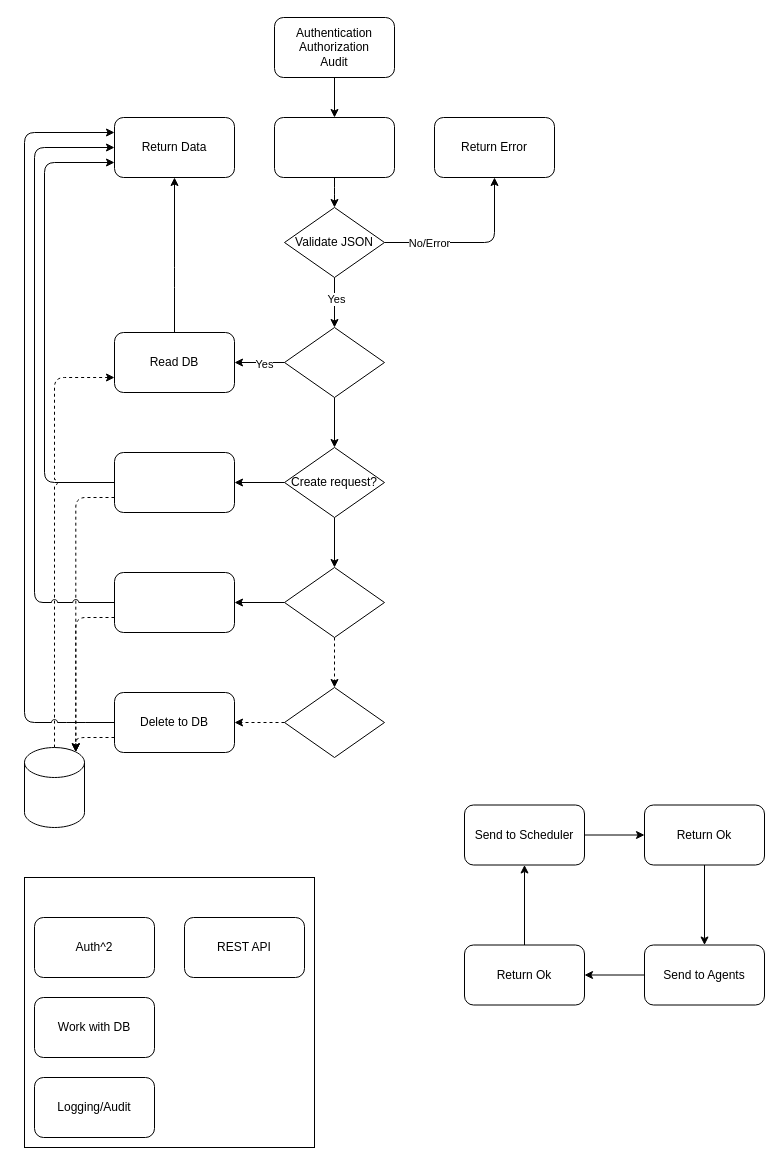
Image size: 782x1165. Some labels were removed from this diagram. The box of each missing label's shape, as (x1, y1, x2, y2) in pixels:
API Server modules: (24, 876, 314, 1148)
DB: (24, 746, 84, 828)
Delete request?: (284, 686, 384, 758)
Insert to DB: (114, 452, 234, 512)
Read request?: (284, 326, 384, 398)
Receive requests (JSON): (274, 116, 394, 178)
Update request?: (284, 566, 384, 638)
Update to DB: (114, 572, 234, 632)
